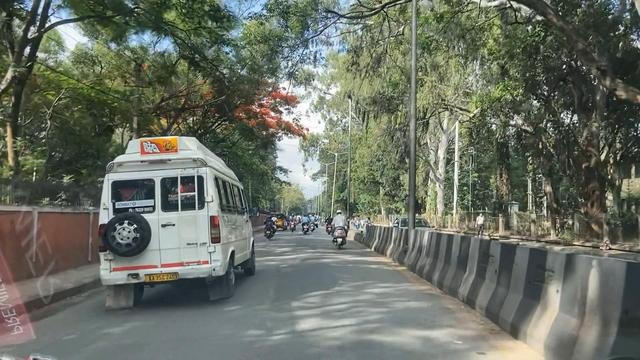HMV: (92, 126, 254, 309)
